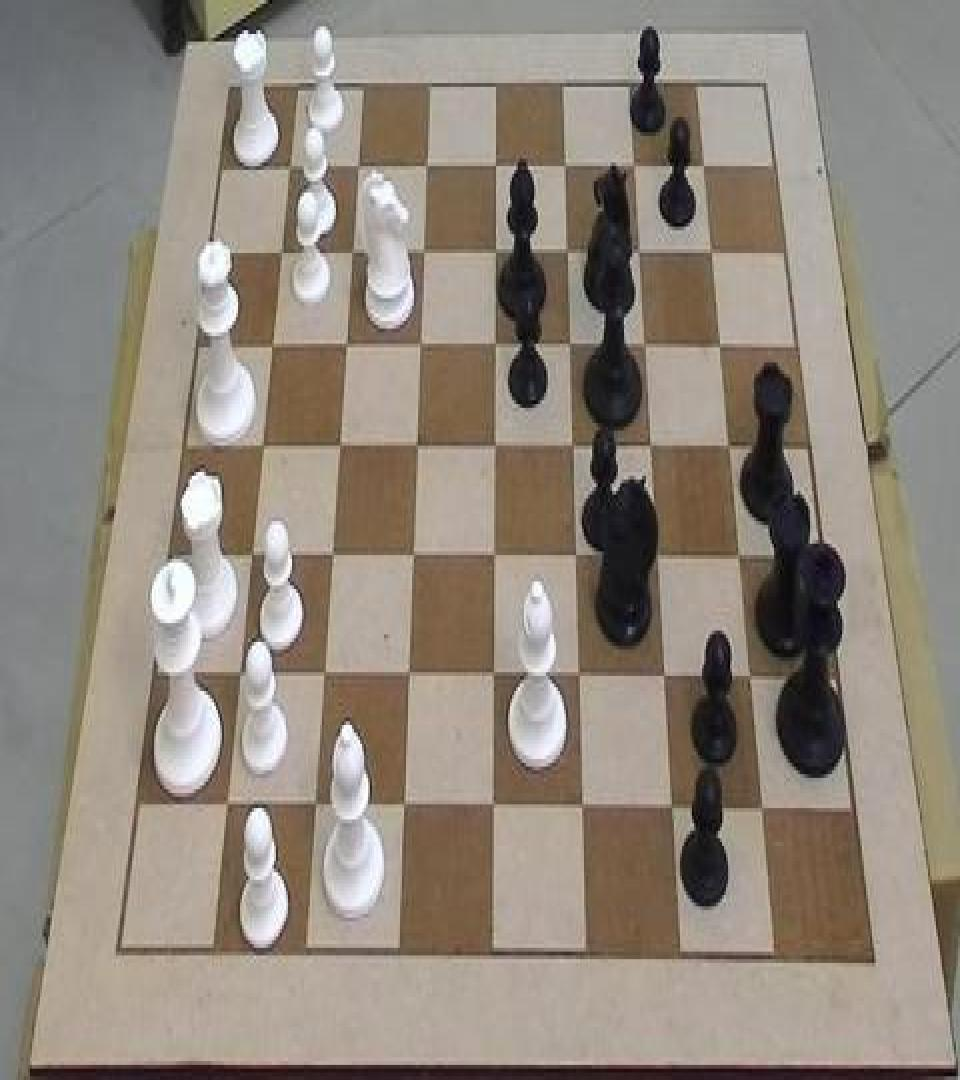xcorner: (741, 664, 761, 703), (695, 147, 715, 185), (624, 147, 644, 185), (554, 147, 574, 185), (484, 147, 504, 185), (415, 147, 435, 185), (346, 147, 366, 185), (277, 147, 297, 185), (702, 234, 722, 272), (629, 234, 649, 272), (556, 234, 576, 272), (484, 234, 504, 272), (412, 232, 432, 270), (340, 232, 360, 270), (269, 232, 289, 270), (711, 328, 731, 366), (635, 328, 655, 366), (559, 326, 579, 364), (483, 326, 503, 364), (408, 326, 428, 364), (334, 324, 354, 362), (260, 324, 280, 362), (720, 430, 740, 468), (641, 430, 661, 468), (562, 428, 582, 466), (483, 428, 503, 466), (405, 426, 425, 464), (327, 426, 347, 464), (250, 424, 270, 462), (730, 542, 750, 580), (647, 540, 667, 578), (565, 540, 585, 578), (482, 538, 502, 576), (401, 536, 421, 574), (320, 536, 340, 574), (239, 534, 259, 572), (654, 662, 674, 700), (568, 660, 588, 698), (482, 659, 502, 697), (396, 657, 416, 695), (311, 655, 331, 693), (227, 653, 247, 691), (754, 798, 774, 836), (662, 795, 682, 833), (571, 793, 591, 831), (481, 791, 501, 829), (392, 789, 412, 827), (303, 786, 323, 824), (214, 784, 234, 822)
